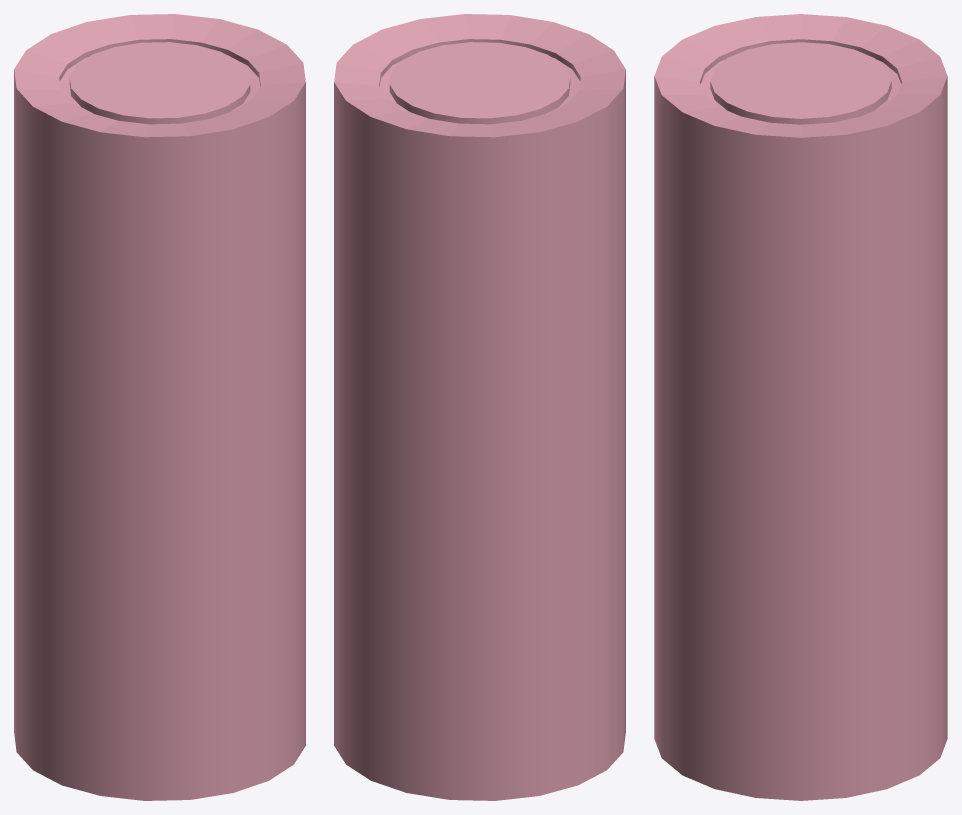
The model's file is PokerChipStack3.fbx.
The picture shows the model from 3 angles, left to right: view 1: azimuth 30°, elevation 25°; view 2: azimuth 150°, elevation 25°; view 3: azimuth 270°, elevation 25°; orthographic projection.
Visible parts, largest first — view 1: PokerChipStack3; view 2: PokerChipStack3; view 3: PokerChipStack3.
Boxes of the visible parts, x1,y1,x2,y2 form: PokerChipStack3: [14, 14, 305, 800]; PokerChipStack3: [334, 14, 625, 800]; PokerChipStack3: [654, 14, 947, 800].
Bounding box in the file's own units: 5.71 × 14.25 × 5.71.
